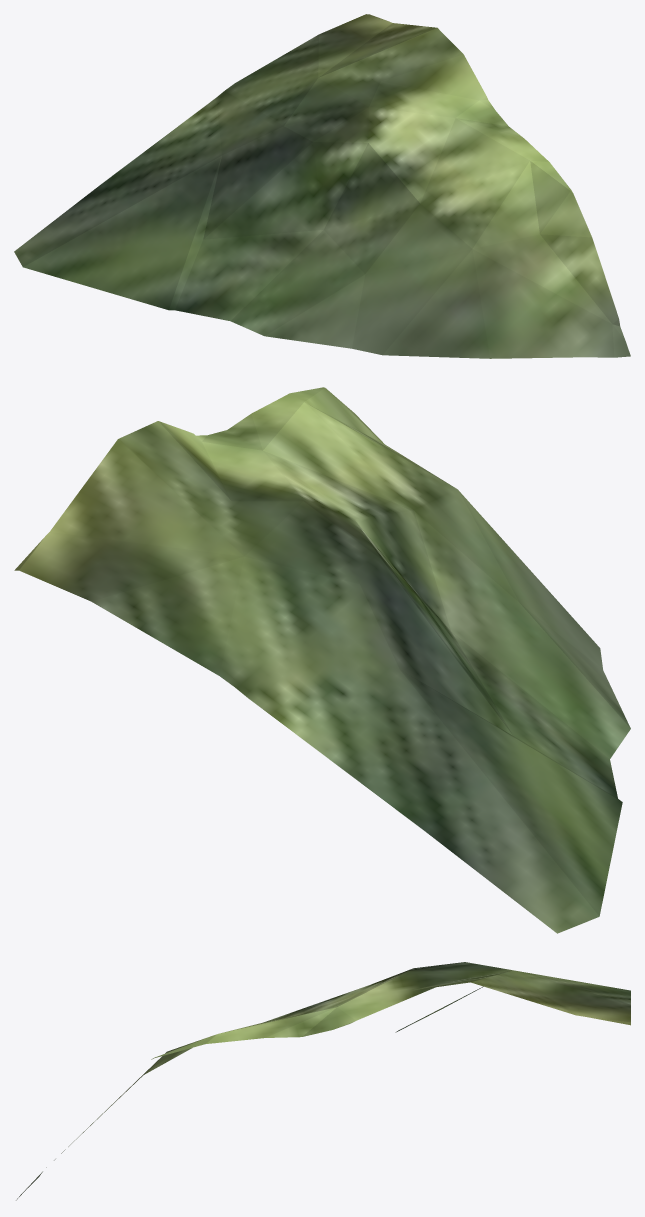
The picture shows the model from 3 angles, top to bottom: view 1: azimuth 30°, elevation 25°; view 2: azimuth 150°, elevation 25°; view 3: azimuth 270°, elevation 25°; orthographic projection. The views are drawn at different scales.
Bounding box in the file's own units: 5.86 × 2.87 × 7.28.
Materials: 1 (1 with a texture image).
